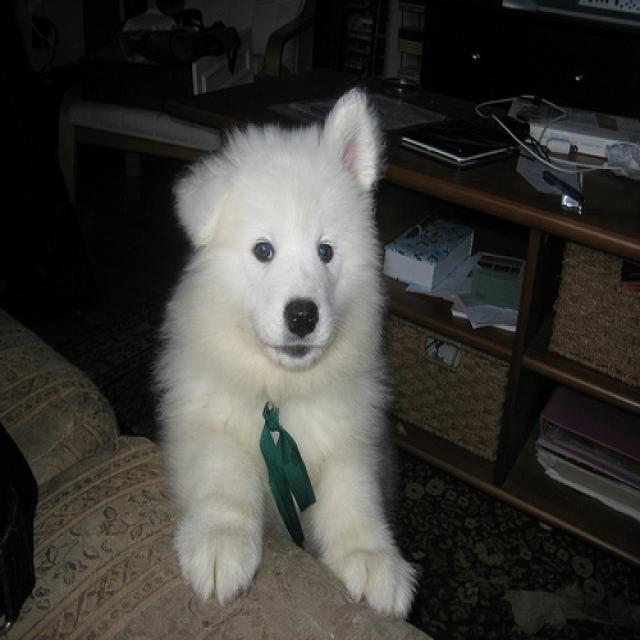dog-samoyed: (151, 80, 422, 628)
